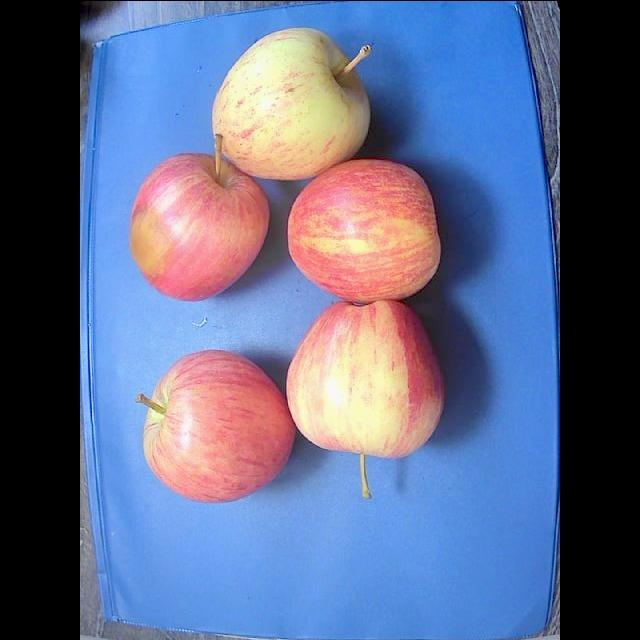manzana: (287, 300, 443, 496), (135, 350, 295, 501), (213, 28, 370, 178), (288, 159, 440, 302), (129, 147, 269, 301)
